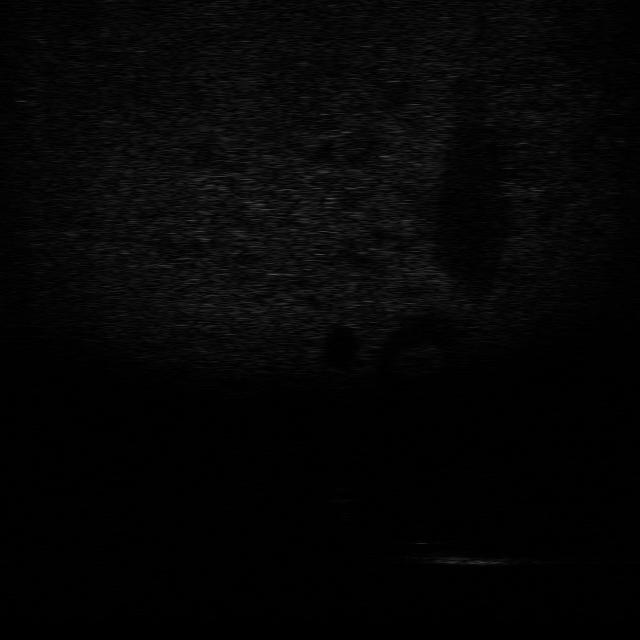ball: (318, 482, 362, 504)
metal bucket: (412, 546, 522, 570)
tyre: (389, 528, 456, 546)
